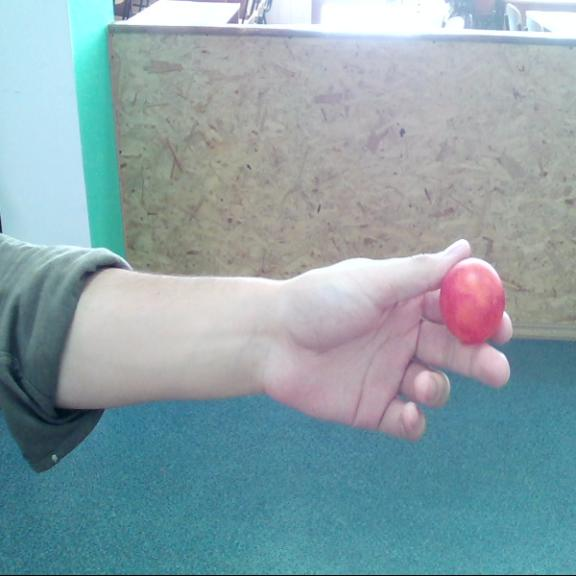ball: (442, 256, 507, 347)
